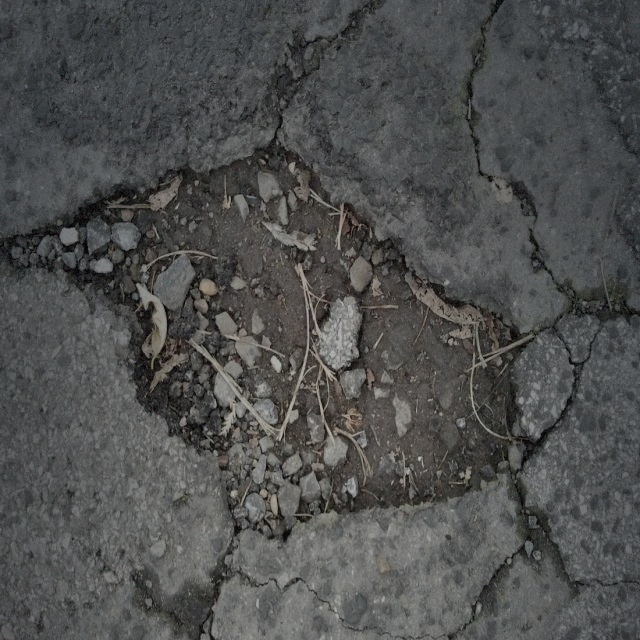pothole: (73, 128, 529, 518)
